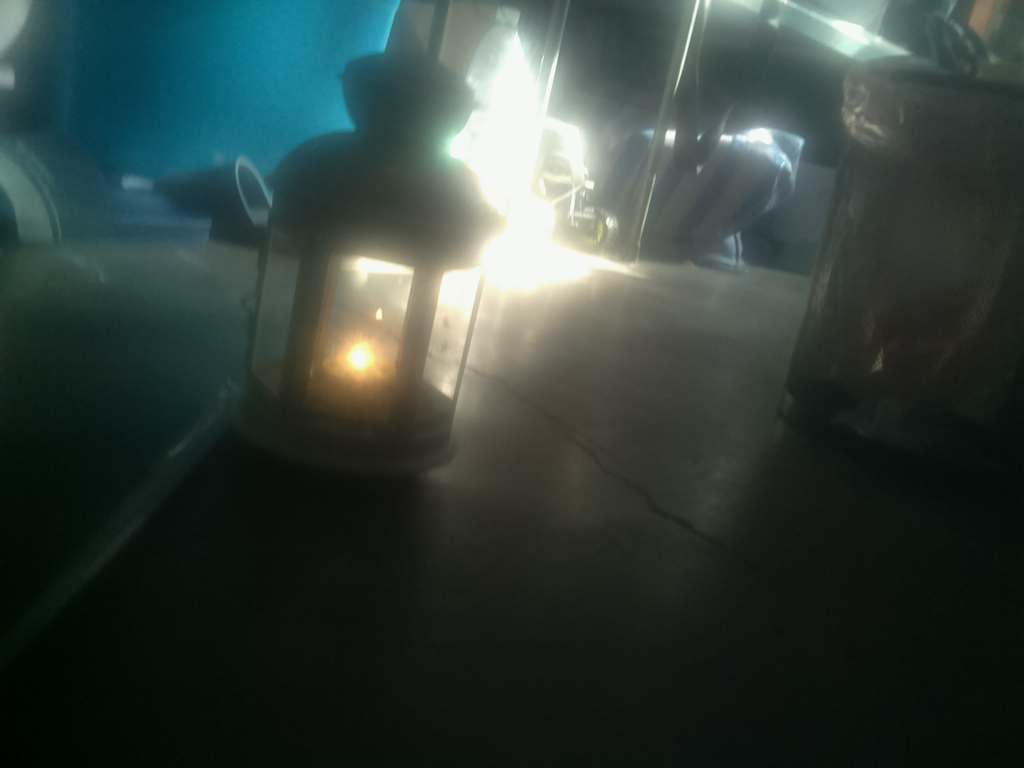fire: (315, 317, 397, 398)
